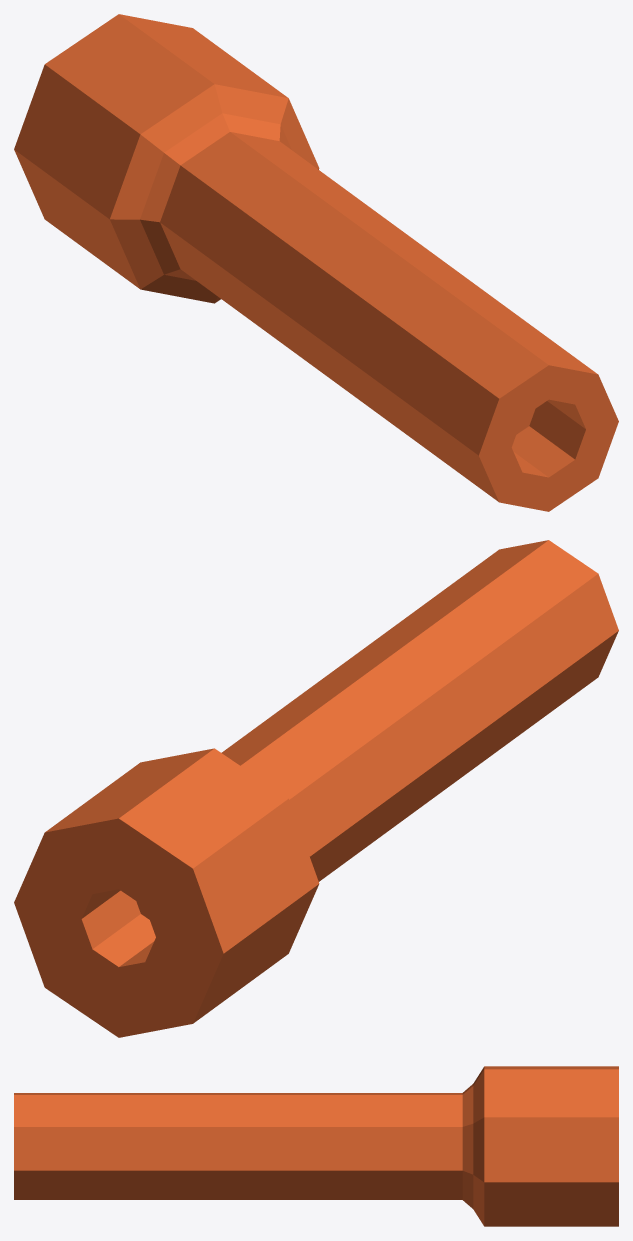
The model's file is acc_Rifle_11_supressor.fbx.
3 renders of one model, top to bottom at view 1: azimuth 30°, elevation 25°; view 2: azimuth 150°, elevation 25°; view 3: azimuth 270°, elevation 25°, orthographic. The views are drawn at different scales.
Parts seen in each view (by area): view 1: acc_Rfile_11_supressor; view 2: acc_Rfile_11_supressor; view 3: acc_Rfile_11_supressor.
Part boxes in pixels (left/top/right/bottom): acc_Rfile_11_supressor: left=14, top=14, right=618, bottom=511; acc_Rfile_11_supressor: left=14, top=540, right=618, bottom=1037; acc_Rfile_11_supressor: left=14, top=1066, right=618, bottom=1226.
Bounding box in the file's own units: 38.26 × 38.26 × 136.
